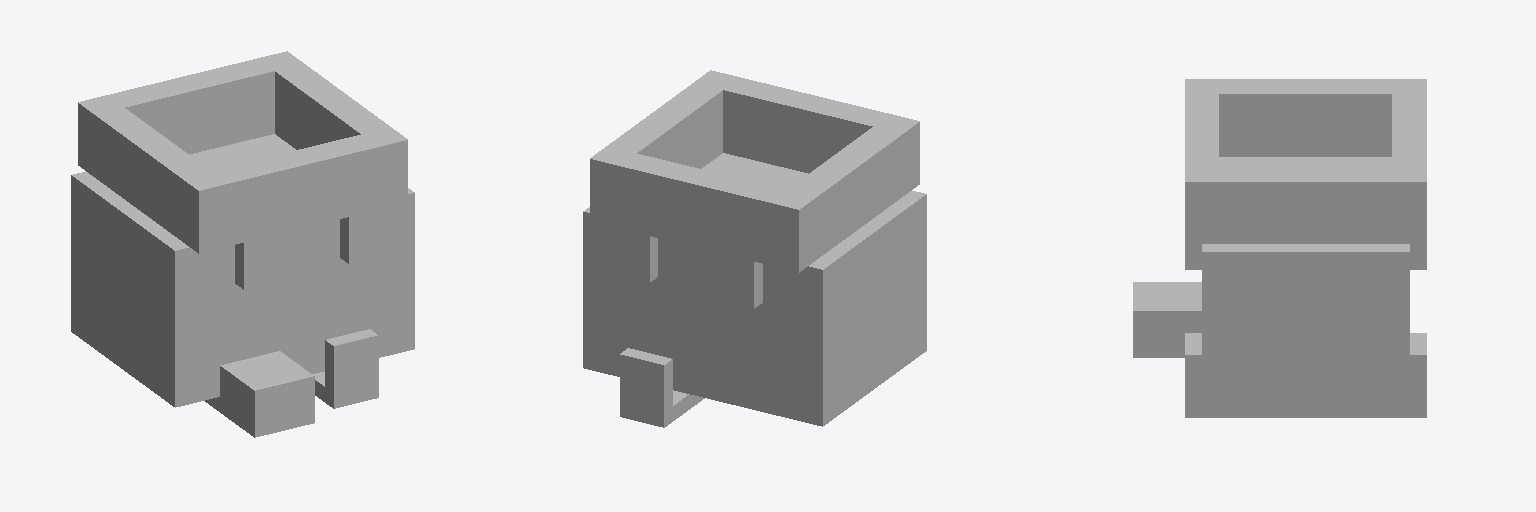
The model's file is separator.obj.
3 renders of one model, left to right at view 1: azimuth 30°, elevation 25°; view 2: azimuth 150°, elevation 25°; view 3: azimuth 270°, elevation 25°, orthographic.
Visible parts, largest first — view 1: separatorBaseBlock, hopperFront, hopperBack, hopperLeft, output, hopperRight, legsFront, hopperLegsFrontLeft, hopperLegsFrontRight; view 2: separatorBaseBlock, hopperBack, hopperFront, hopperLeft, hopperRight, legsBack, hopperLegsBackLeft, hopperLegsBackRight; view 3: separatorBaseBlock, hopperLeft, hopperRight, hopperBack, hopperFront, output, legsBottom, legsBack, legsFront.
Boxes of the visible parts, <box> form: separatorBaseBlock: <box>71,134,414,407</box>; hopperFront: <box>181,127,407,253</box>; hopperBack: <box>78,51,303,176</box>; hopperLeft: <box>95,108,210,239</box>; output: <box>205,351,314,437</box>; hopperRight: <box>275,64,389,149</box>; legsFront: <box>325,329,378,408</box>; hopperLegsFrontLeft: <box>235,235,273,289</box>; hopperLegsFrontRight: <box>340,213,363,263</box>; separatorBaseBlock: <box>583,153,926,426</box>; hopperBack: <box>590,146,816,272</box>; hopperFront: <box>694,70,919,195</box>; hopperLeft: <box>787,127,902,258</box>; hopperRight: <box>608,83,722,168</box>; legsBack: <box>620,348,672,427</box>; hopperLegsBackLeft: <box>724,254,762,308</box>; hopperLegsBackRight: <box>635,233,657,282</box>; separatorBaseBlock: <box>1202,157,1409,408</box>; hopperLeft: <box>1219,79,1391,156</box>; hopperRight: <box>1219,167,1391,243</box>; hopperBack: <box>1392,79,1426,243</box>; hopperFront: <box>1185,79,1218,243</box>; output: <box>1133,282,1201,357</box>; legsBottom: <box>1202,409,1409,417</box>; legsBack: <box>1410,333,1426,417</box>; legsFront: <box>1185,333,1201,417</box>.
Bounding box in the file's own units: 1 × 1 × 1.06.